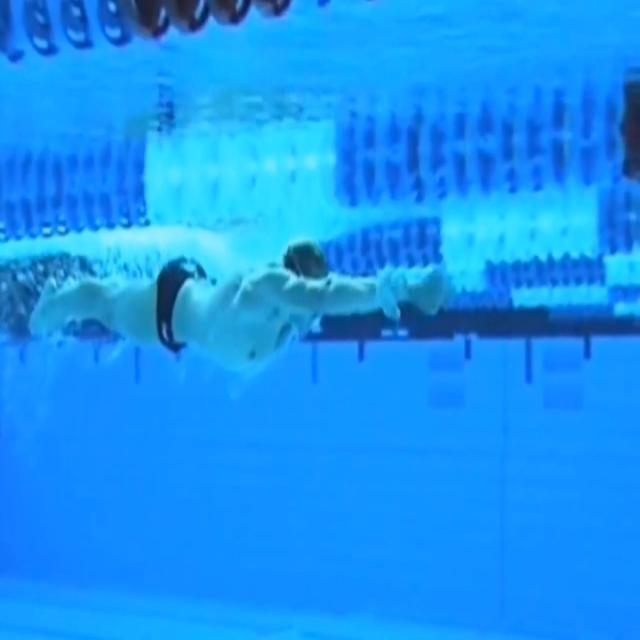Swimming: (27, 239, 447, 371)
